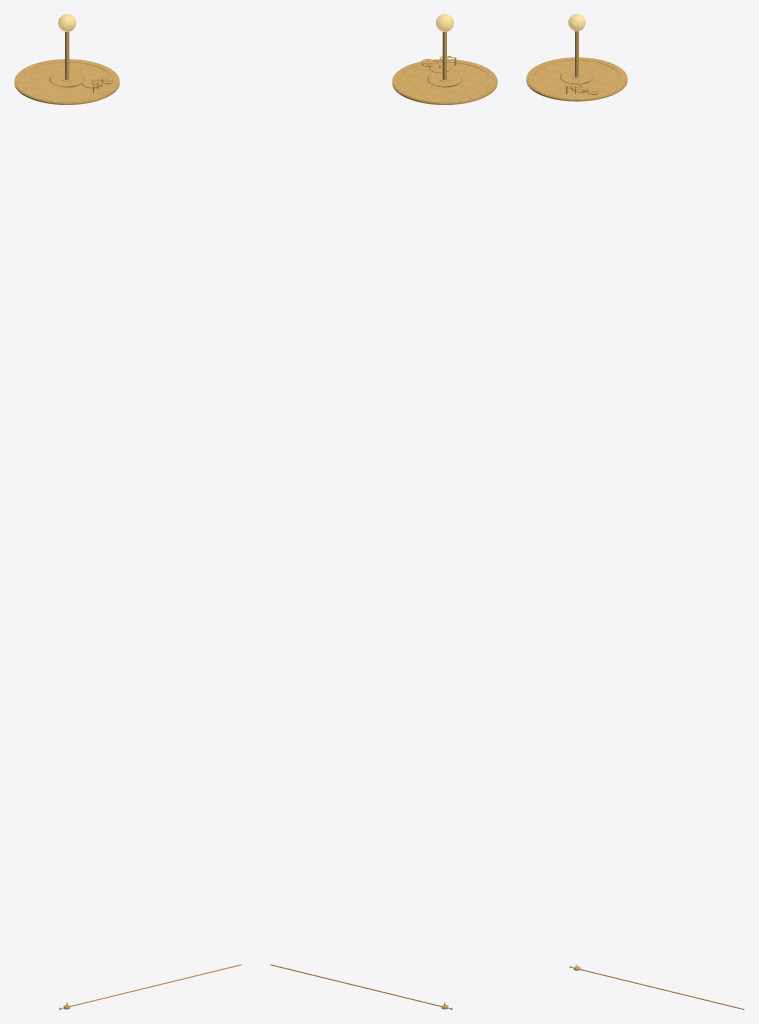
Rendered from orrery-machine.glb.
3 views of the same model, side by side, from view 1: azimuth 30°, elevation 25°; view 2: azimuth 150°, elevation 25°; view 3: azimuth 330°, elevation 25° (orthographic). The views are drawn at different scales.
Parts seen in each view (by area): view 1: base-plate, zodiac-ring; view 2: base-plate, zodiac-ring; view 3: base-plate, zodiac-ring.
Part boxes in pixels (bbox=[...]): base-plate: bbox=[14, 59, 119, 104]; zodiac-ring: bbox=[15, 59, 118, 102]; base-plate: bbox=[392, 59, 497, 104]; zodiac-ring: bbox=[393, 59, 496, 102]; base-plate: bbox=[526, 57, 627, 101]; zodiac-ring: bbox=[527, 57, 626, 99].
Size of the model in its own units: 1.26 by 5.45 by 0.524.
Materials: 2 (2 with a texture image).
